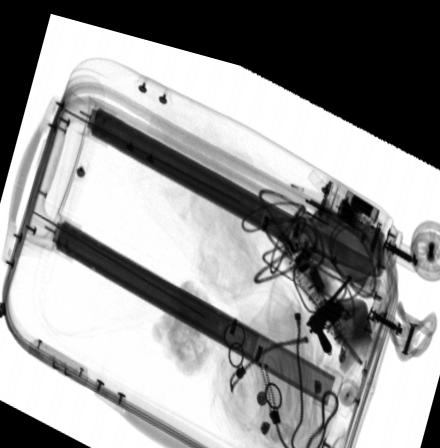Gun: (307, 251, 353, 336)
